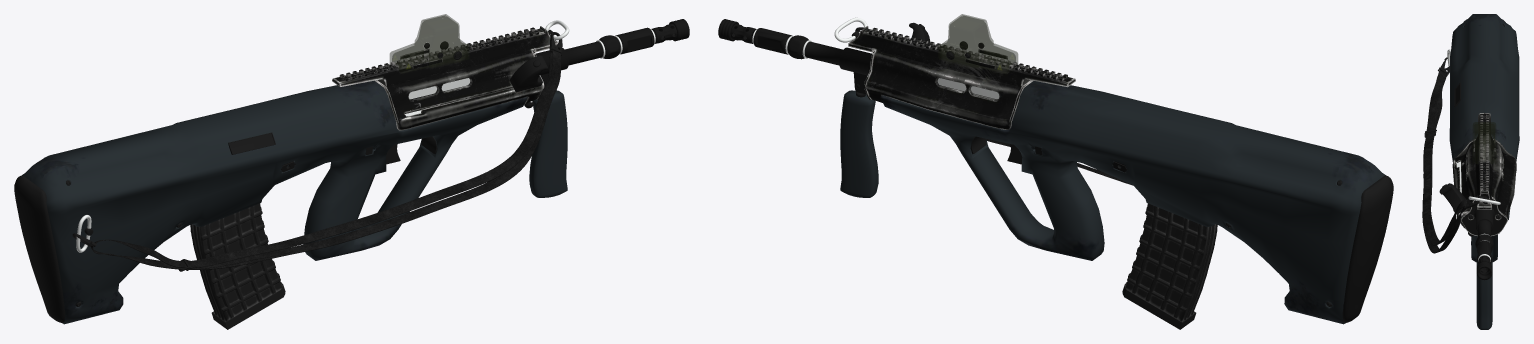
File: steyr-aug.glb
3 views of the same model, side by side, from view 1: azimuth 30°, elevation 25°; view 2: azimuth 150°, elevation 25°; view 3: azimuth 270°, elevation 25° (orthographic). The views are drawn at different scales.
Visible parts, largest first — view 1: g (×9); view 2: g (×8); view 3: g (×10).
Part boxes in pixels (x1,y1,x2,y2): g (×9): (14, 14, 689, 329); g (×8): (718, 14, 1393, 329); g (×10): (1422, 14, 1519, 329).
Size of the model in its own units: 2 by 0.7236 by 0.3238.
4 materials, 4 textured.
